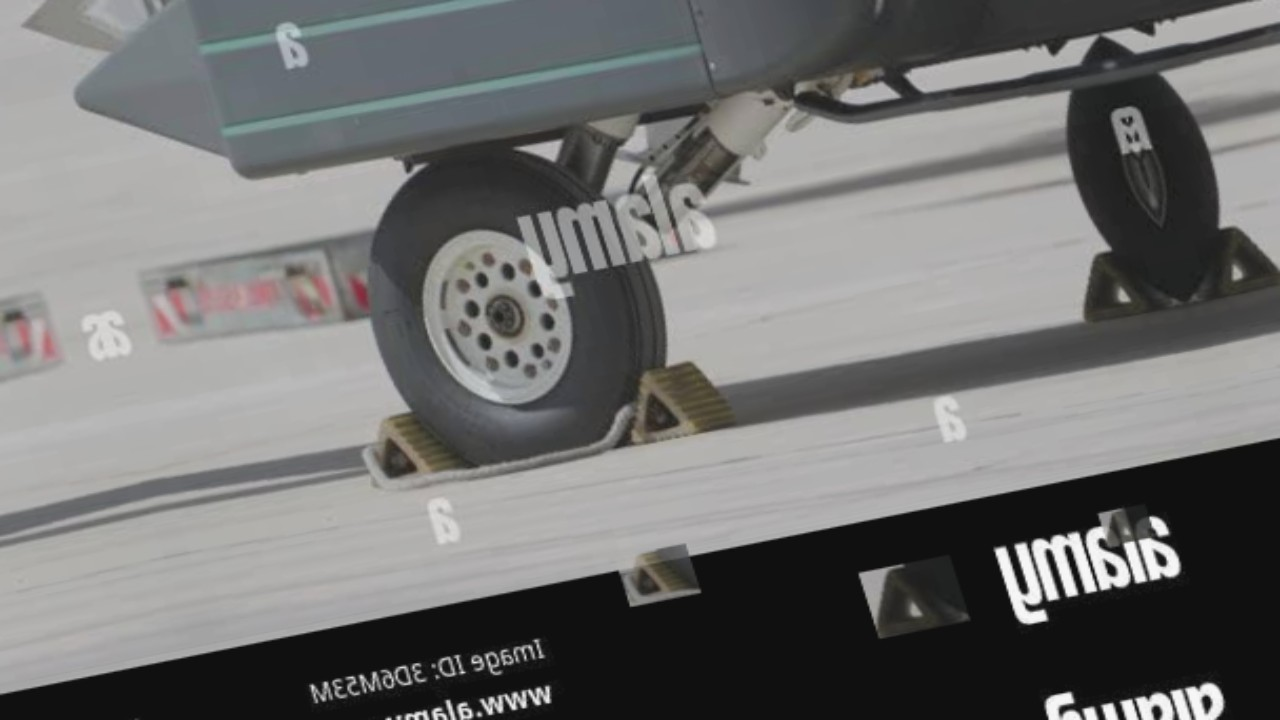chock: (348, 402, 477, 497), (612, 355, 739, 445), (1063, 239, 1181, 326), (858, 555, 970, 639), (1172, 217, 1280, 304), (615, 544, 701, 607), (1098, 504, 1156, 546)
wheel: (326, 122, 699, 474), (1041, 70, 1183, 310), (1114, 55, 1255, 295)
